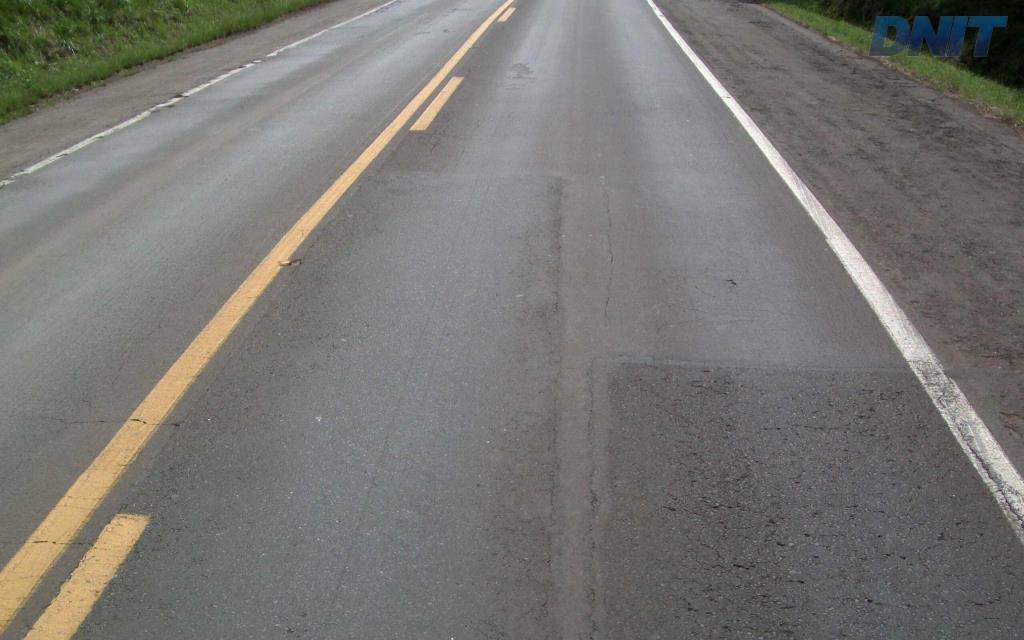crack: (660, 464, 813, 639), (958, 549, 1023, 639), (936, 502, 990, 558), (825, 591, 883, 617)
